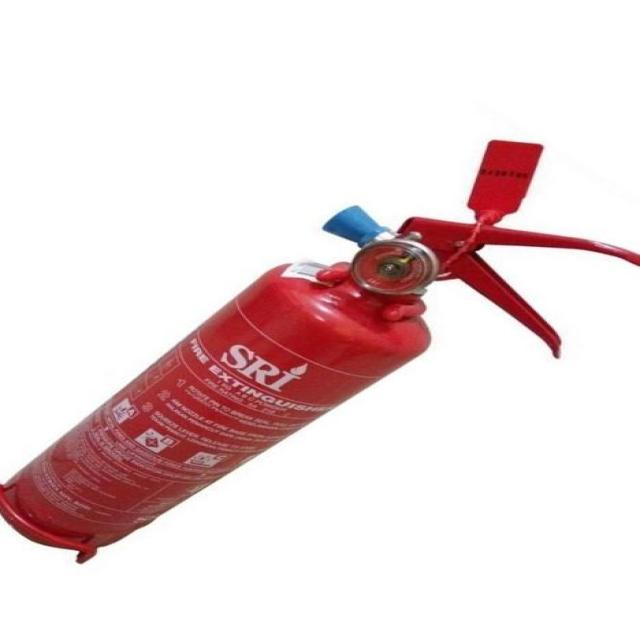fire_extinguisher: (0, 132, 639, 568)
